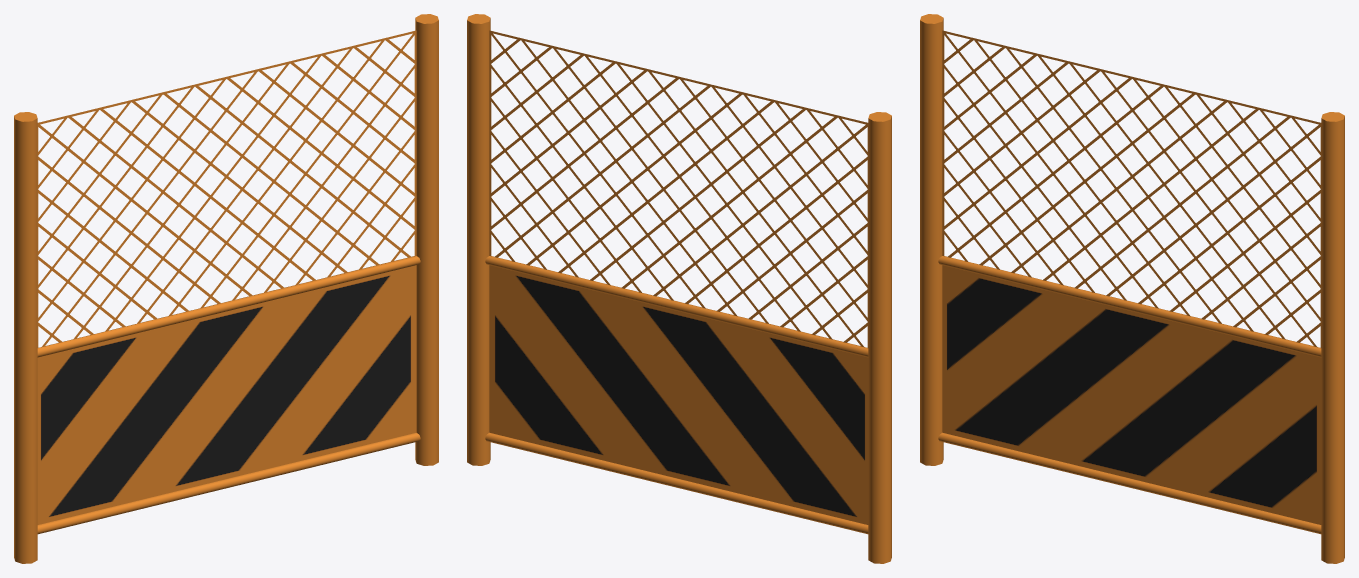
File: ob_Fence3.fbx
3 views of the same model, side by side, from view 1: azimuth 30°, elevation 25°; view 2: azimuth 150°, elevation 25°; view 3: azimuth 330°, elevation 25° (orthographic).
Visible parts, largest first — view 1: pPlaneFence3; view 2: pPlaneFence3; view 3: pPlaneFence3.
Part boxes in pixels (box(x1,y1,x2,y2)): pPlaneFence3: box(14, 14, 438, 563); pPlaneFence3: box(467, 14, 891, 563); pPlaneFence3: box(920, 14, 1344, 563).
Bounding box in the file's own units: 200 × 200 × 10.
